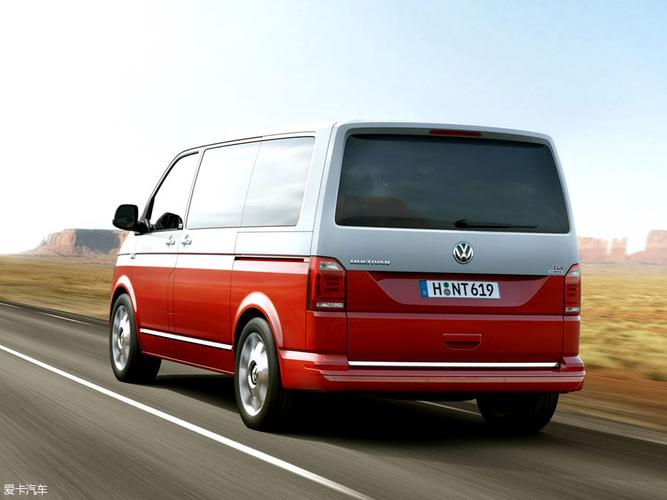汽车: (78, 116, 588, 445)
